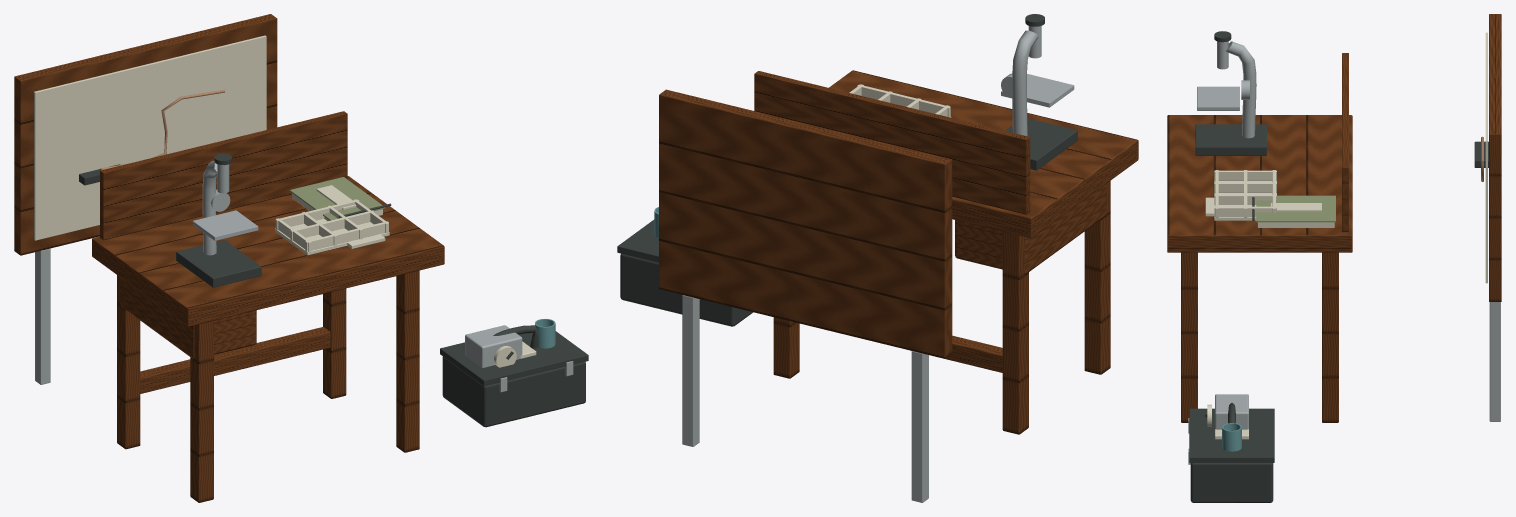
Rendered from research-and-crafting-progression-field--cf9e39bc-starter-scene__2886.glb.
The picture shows the model from 3 angles, left to right: view 1: azimuth 30°, elevation 25°; view 2: azimuth 150°, elevation 25°; view 3: azimuth 270°, elevation 25°; orthographic projection. The views are drawn at different scales.
Parts seen in each view (by area): view 1: 000-rough-study-desk/0, 004-schematic-board/1, 004-schematic-board/0, 005-portable-analysis-case/0, 000-rough-study-desk/drawer/wood, 002-sample-tray/0, 005-portable-analysis-case/lid/dark, 001-field-microscope/1, 001-field-microscope/0, 004-schematic-board/2, 005-portable-analysis-case/2, 003-experiment-logbook/1; view 2: 004-schematic-board/0, 000-rough-study-desk/0, 004-schematic-board/2, 000-rough-study-desk/drawer/wood, 001-field-microscope/1, 005-portable-analysis-case/0, 001-field-microscope/0, 002-sample-tray/0, 005-portable-analysis-case/lid/dark; view 3: 000-rough-study-desk/0, 004-schematic-board/0, 005-portable-analysis-case/0, 005-portable-analysis-case/lid/dark, 002-sample-tray/0, 001-field-microscope/1, 001-field-microscope/0, 003-experiment-logbook/1, 004-schematic-board/2, 005-portable-analysis-case/2, 003-experiment-logbook/0, 004-schematic-board/1 (+1 smaller).
Part boxes in pixels (box(x1,y1,x2,y2)): 000-rough-study-desk/0: box(92, 111, 444, 502); 004-schematic-board/1: box(34, 35, 266, 240); 004-schematic-board/0: box(14, 14, 277, 255); 005-portable-analysis-case/0: box(442, 325, 585, 427); 000-rough-study-desk/drawer/wood: box(120, 278, 256, 358); 002-sample-tray/0: box(275, 199, 389, 255); 005-portable-analysis-case/lid/dark: box(440, 331, 588, 386); 001-field-microscope/1: box(192, 160, 258, 255); 001-field-microscope/0: box(176, 153, 261, 287); 004-schematic-board/2: box(35, 248, 50, 384); 005-portable-analysis-case/2: box(465, 325, 573, 392); 003-experiment-logbook/1: box(289, 177, 385, 220); 004-schematic-board/0: box(659, 89, 952, 358); 000-rough-study-desk/0: box(754, 70, 1138, 434); 004-schematic-board/2: box(682, 295, 928, 502); 000-rough-study-desk/drawer/wood: box(955, 184, 1106, 274); 001-field-microscope/1: box(1001, 26, 1074, 136); 005-portable-analysis-case/0: box(620, 253, 752, 326); 001-field-microscope/0: box(1005, 14, 1077, 170); 002-sample-tray/0: box(849, 84, 951, 117); 005-portable-analysis-case/lid/dark: box(617, 219, 658, 262); 000-rough-study-desk/0: box(1167, 53, 1352, 422); 004-schematic-board/0: box(1489, 14, 1501, 301); 005-portable-analysis-case/0: box(1190, 403, 1273, 502); 005-portable-analysis-case/lid/dark: box(1189, 408, 1274, 462); 002-sample-tray/0: box(1214, 170, 1276, 220); 001-field-microscope/1: box(1197, 41, 1256, 138); 001-field-microscope/0: box(1195, 31, 1266, 155); 003-experiment-logbook/1: box(1256, 195, 1335, 222); 004-schematic-board/2: box(1489, 302, 1500, 421); 005-portable-analysis-case/2: box(1188, 394, 1248, 464); 003-experiment-logbook/0: box(1257, 203, 1334, 227); 004-schematic-board/1: box(1485, 32, 1487, 283).
Size of the model in its own units: 1.6 by 1.19 by 1.17.
Materials: 7 (1 with a texture image).
